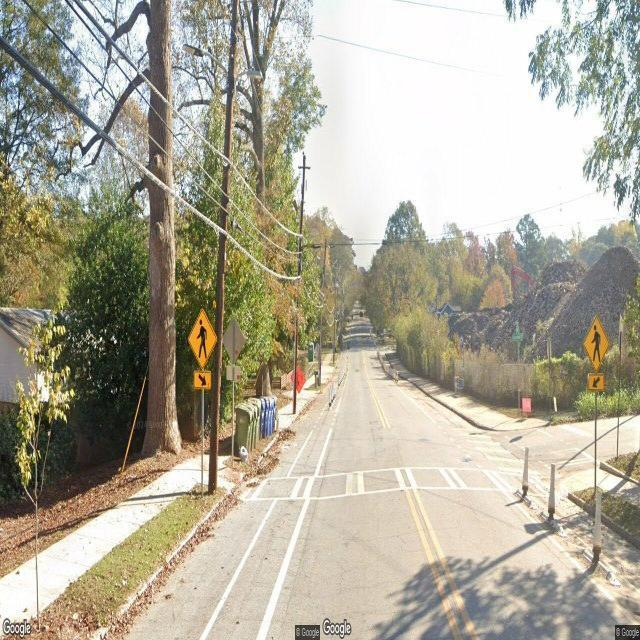seating: (456, 378, 464, 396)
trash_can: (454, 376, 460, 393)
